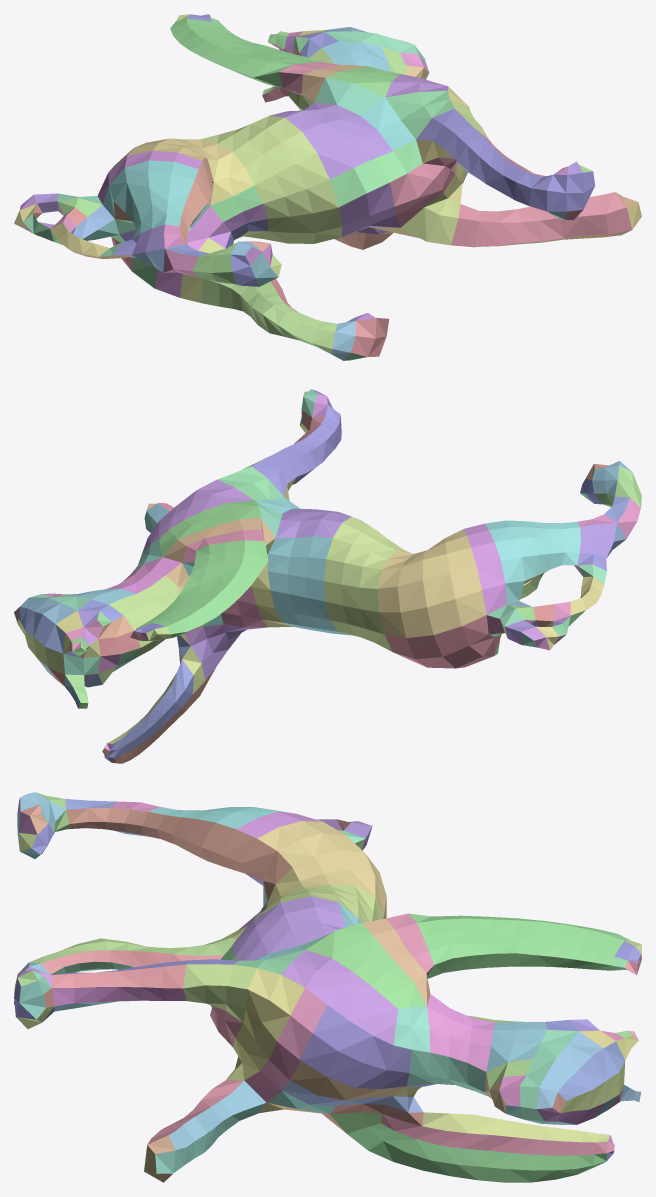
File: feline_patch_color.obj
3 renders of one model, top to bottom at view 1: azimuth 30°, elevation 25°; view 2: azimuth 150°, elevation 25°; view 3: azimuth 270°, elevation 25°, orthographic. The views are drawn at different scales.
Size of the model in its own units: 131 by 51.06 by 123.
